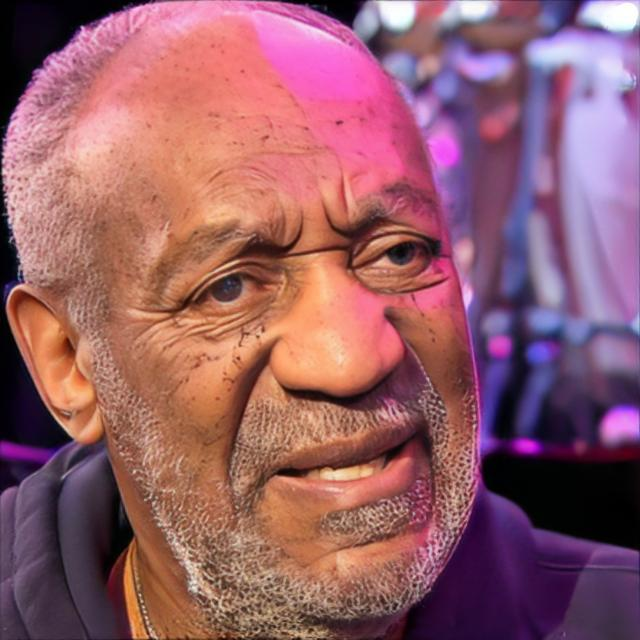disgust: (0, 0, 485, 622)
